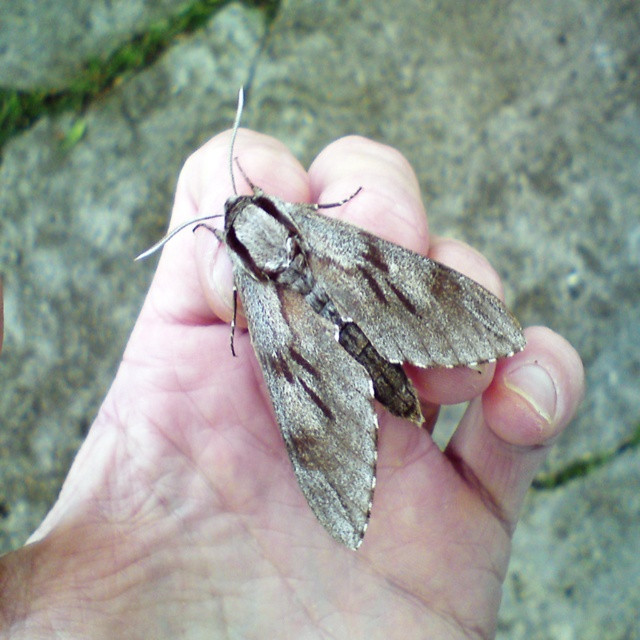Moths and butterflies: (134, 85, 526, 555)
